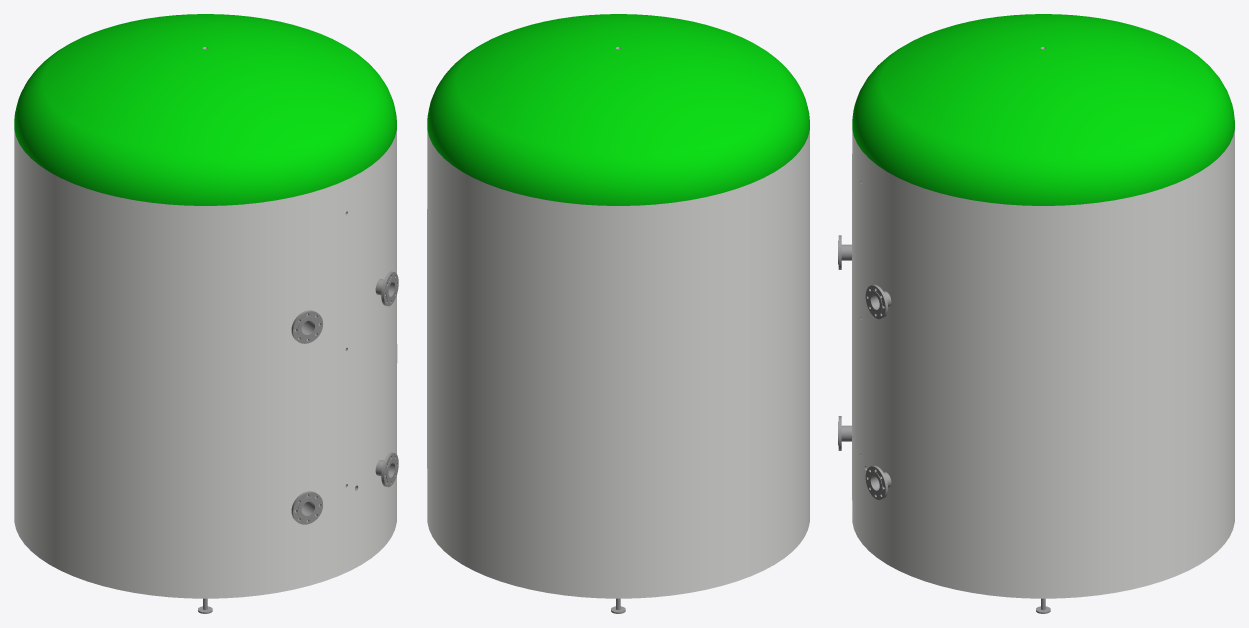
File: tanker.fbx
The picture shows the model from 3 angles, left to right: view 1: azimuth 30°, elevation 25°; view 2: azimuth 150°, elevation 25°; view 3: azimuth 270°, elevation 25°; orthographic projection.
Visible parts, largest first — view 1: 3DGeom-28, 3DGeom-29, 3DGeom-2, 3DGeom-3, 3DGeom-5, 3DGeom-4; view 2: 3DGeom-28, 3DGeom-29; view 3: 3DGeom-28, 3DGeom-29, 3DGeom-5, 3DGeom-4.
Boxes of the visible parts, x1=… form: 3DGeom-28: x1=14, y1=47, x2=397, y2=598; 3DGeom-29: x1=14, y1=14, x2=396, y2=205; 3DGeom-2: x1=291, y1=491, x2=322, y2=524; 3DGeom-3: x1=291, y1=310, x2=322, y2=343; 3DGeom-5: x1=375, y1=271, x2=398, y2=306; 3DGeom-4: x1=375, y1=452, x2=398, y2=487; 3DGeom-28: x1=427, y1=47, x2=809, y2=598; 3DGeom-29: x1=427, y1=14, x2=809, y2=205; 3DGeom-28: x1=852, y1=47, x2=1234, y2=598; 3DGeom-29: x1=852, y1=14, x2=1234, y2=205; 3DGeom-5: x1=865, y1=284, x2=891, y2=319; 3DGeom-4: x1=865, y1=465, x2=891, y2=499.
Bounding box in the file's own units: 2200 × 2279 × 3096.
